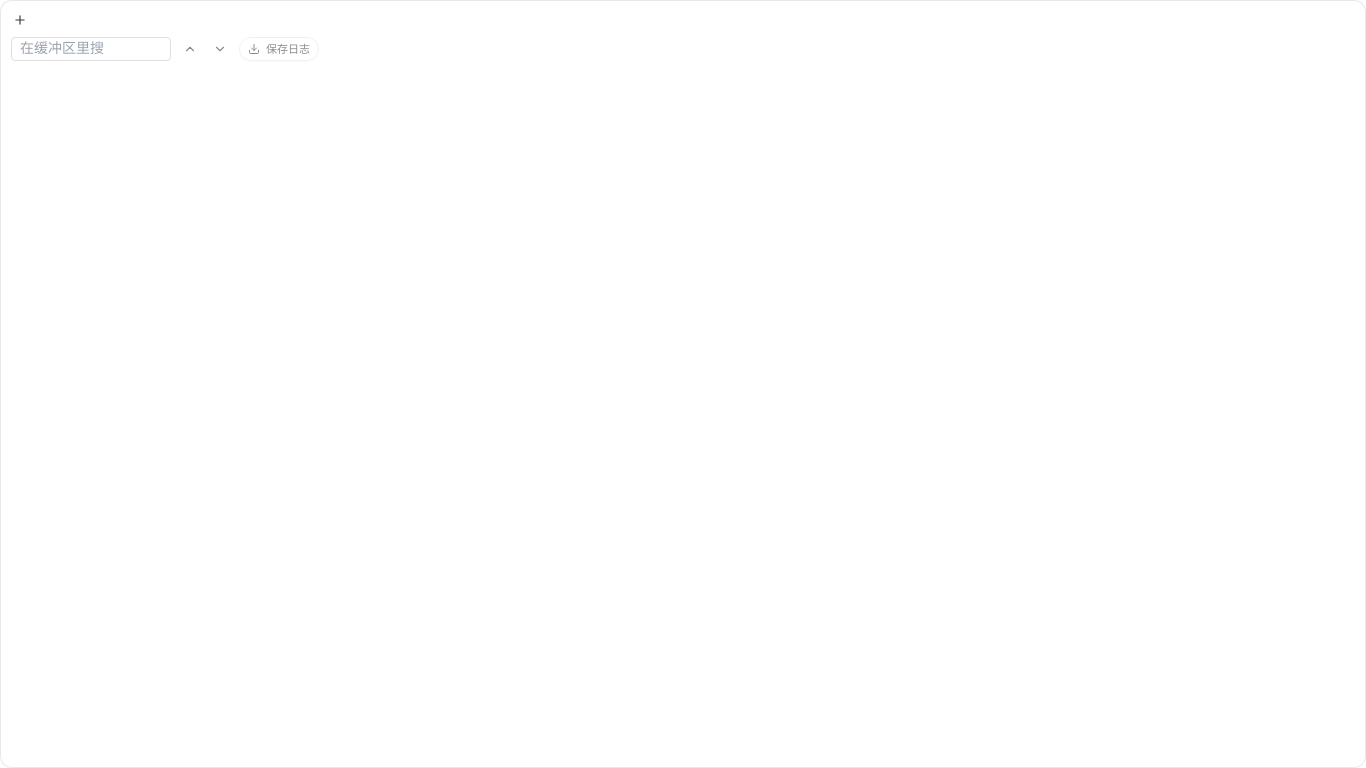
真终端页（FT1 分页） › 起会话后终端真的挂在宿主元素里（不是一块黑的空壳）
The width and height of the screenshot is (1366, 768).
Click the button with test id "terminal-new".
click(20, 20)  # box [11, 11, 29, 29]
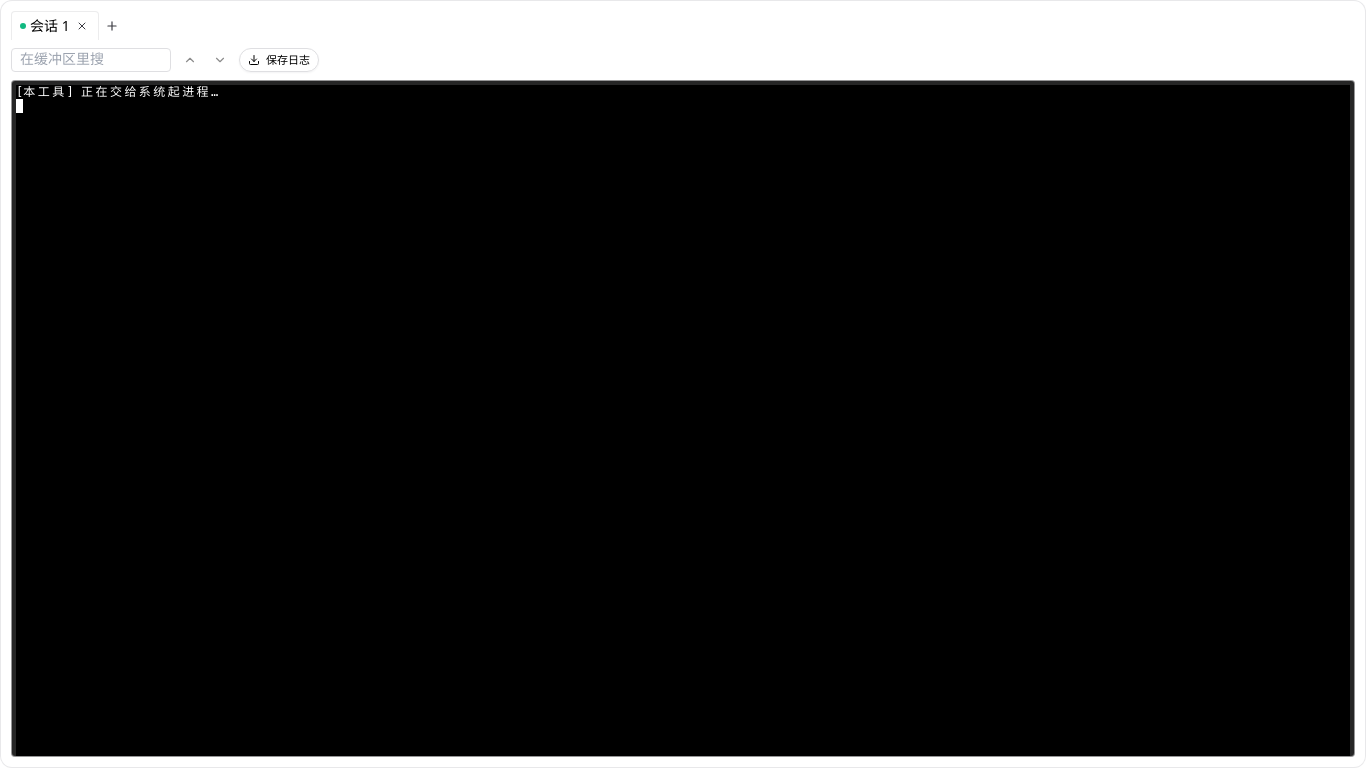
expect the element with class "xterm-screen" is shown: met, box [16, 85, 218, 113]
